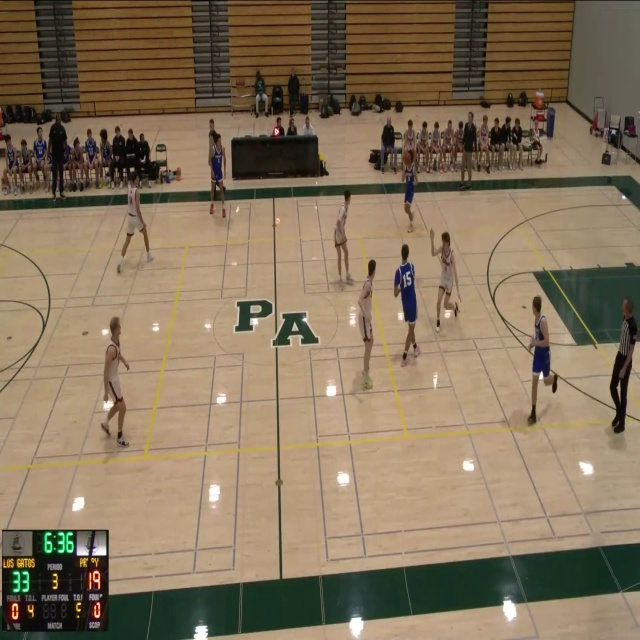Basketball: (402, 150, 412, 165)
